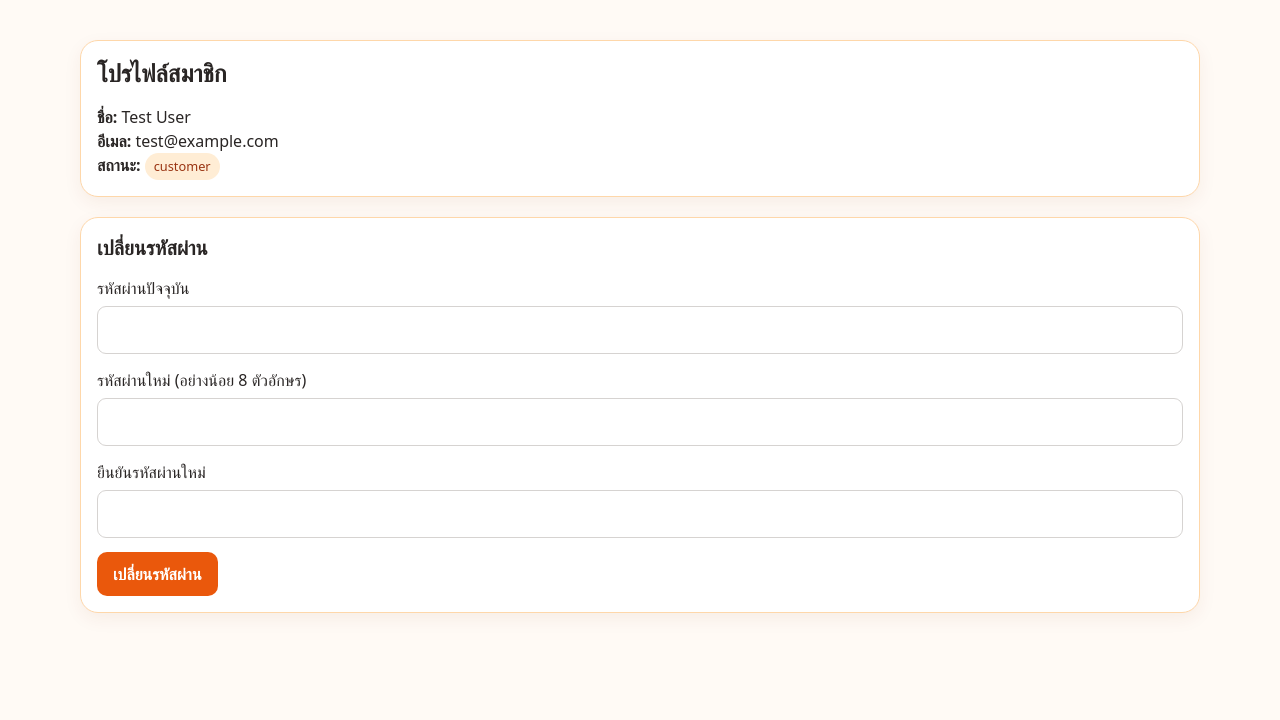
Test case: Profile password change › does not submit when the new passwords do not match
The width and height of the screenshot is (1280, 720).
Type "old-password" into the password field labelled "รหัสผ่านปัจจุบัน" at (640, 330), box [97,306,1183,354]
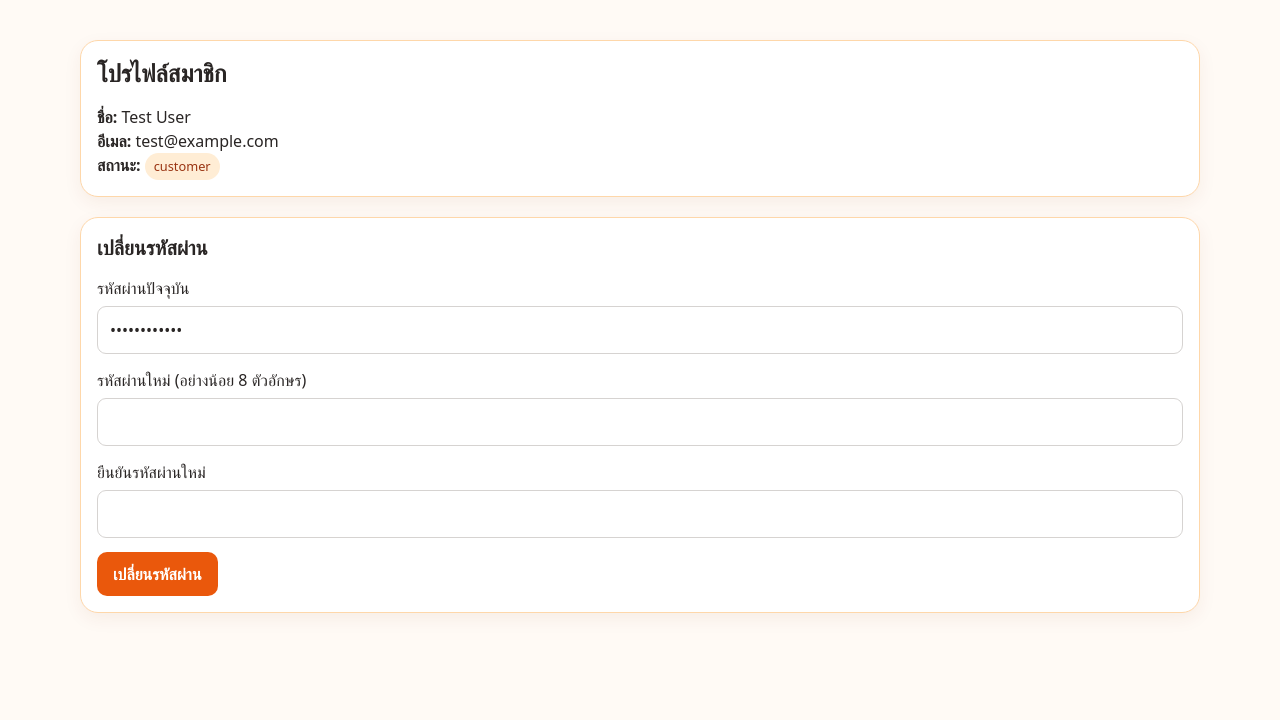
Type "new-password" into the password field labelled "รหัสผ่านใหม่ (อย่างน้อย 8 ตัวอักษร)" at (640, 422), box [97,398,1183,446]
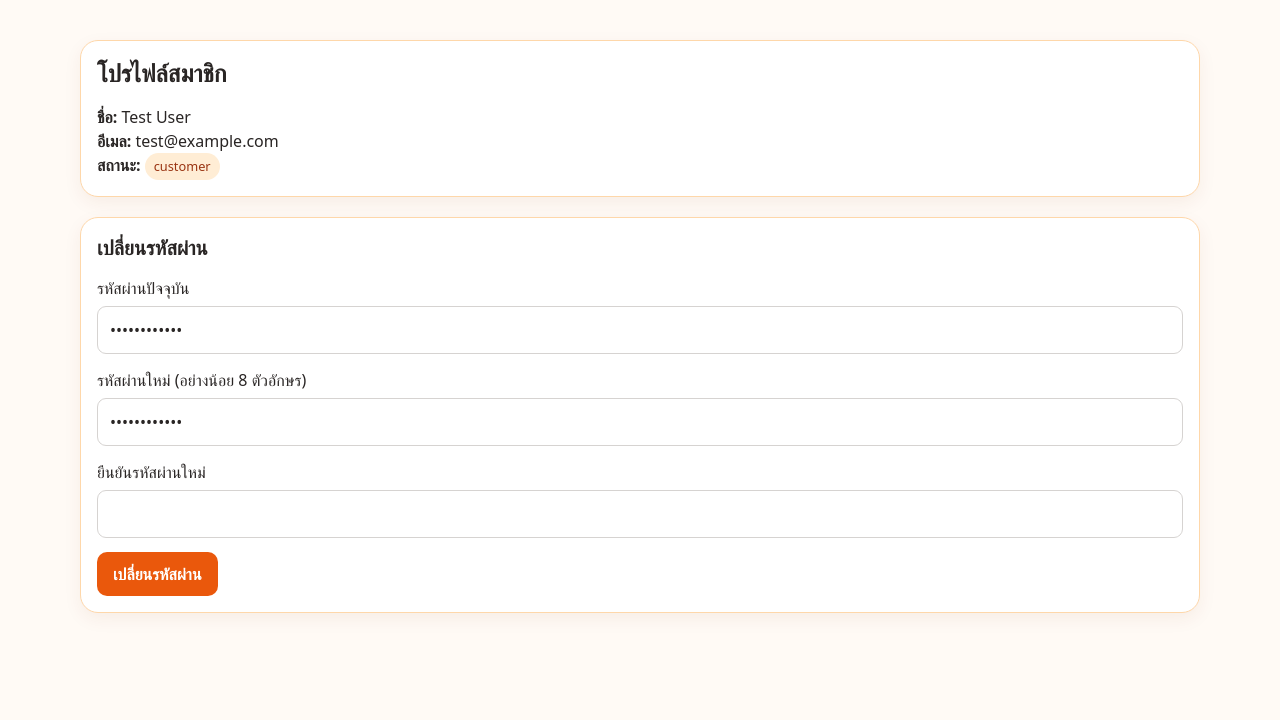
Type "different-password" into the password field labelled "ยืนยันรหัสผ่านใหม่" at (640, 514), box [97,490,1183,538]
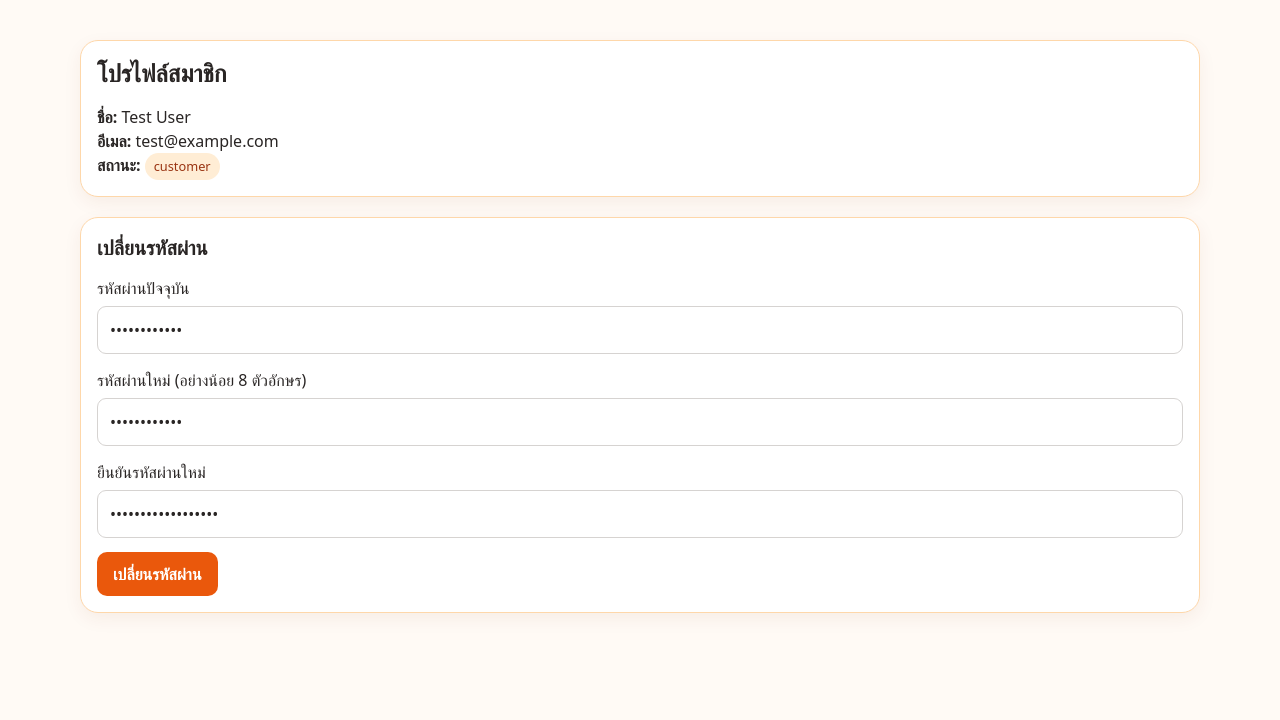
Click the button "เปลี่ยนรหัสผ่าน" at (157, 574), box [97,552,218,596]
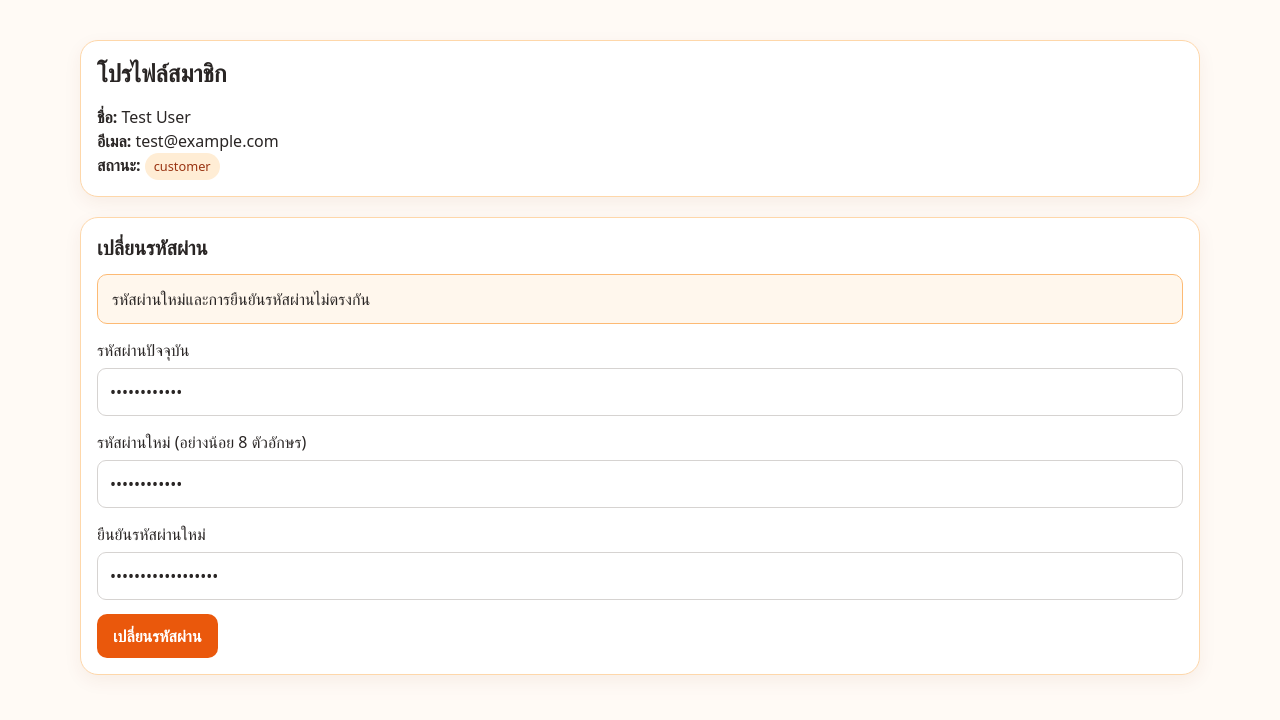
expect the message reads "รหัสผ่านใหม่และการยืนยันรหัสผ่านไม่ตรงกัน": met, box [112,288,370,310]
